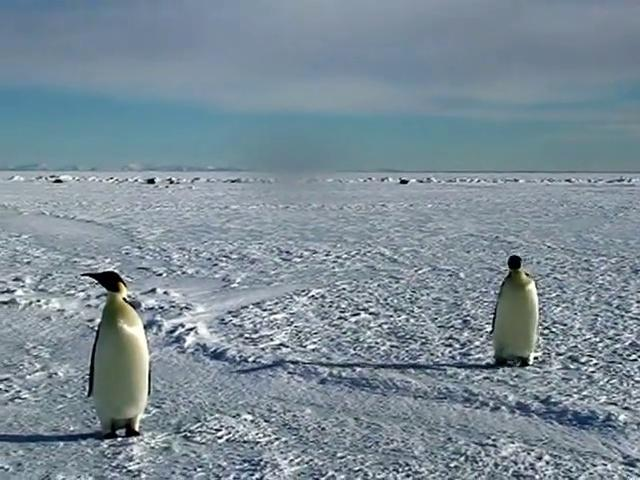animal: (82, 271, 150, 438)
